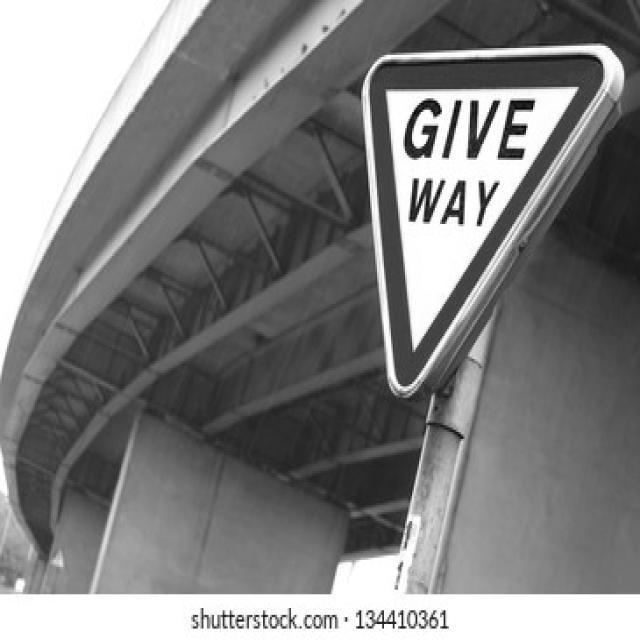give way: (352, 45, 614, 400)
